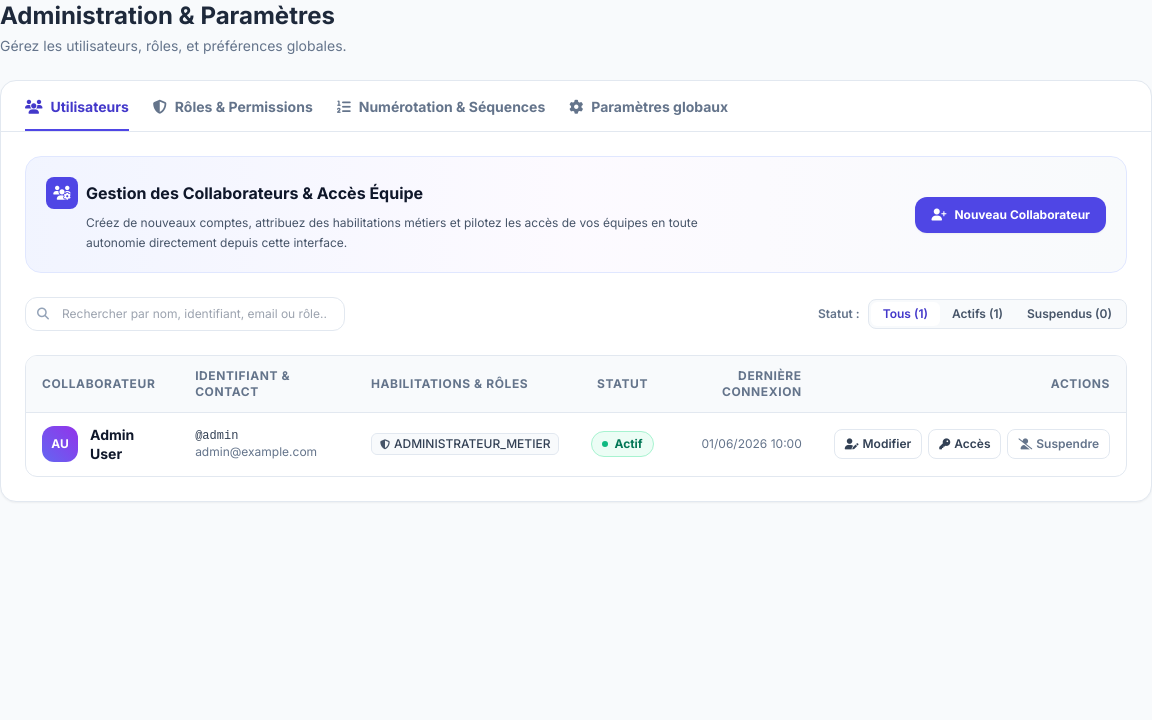
Scenario: AdminPage › permet de créer un nouveau rôle applicatif via l'API
Expected: the text "Admin User" is shown, [90,426,134,462]
Click the button "Rôles & Permissions". click: (233, 114)
box: [153,97,313,131]
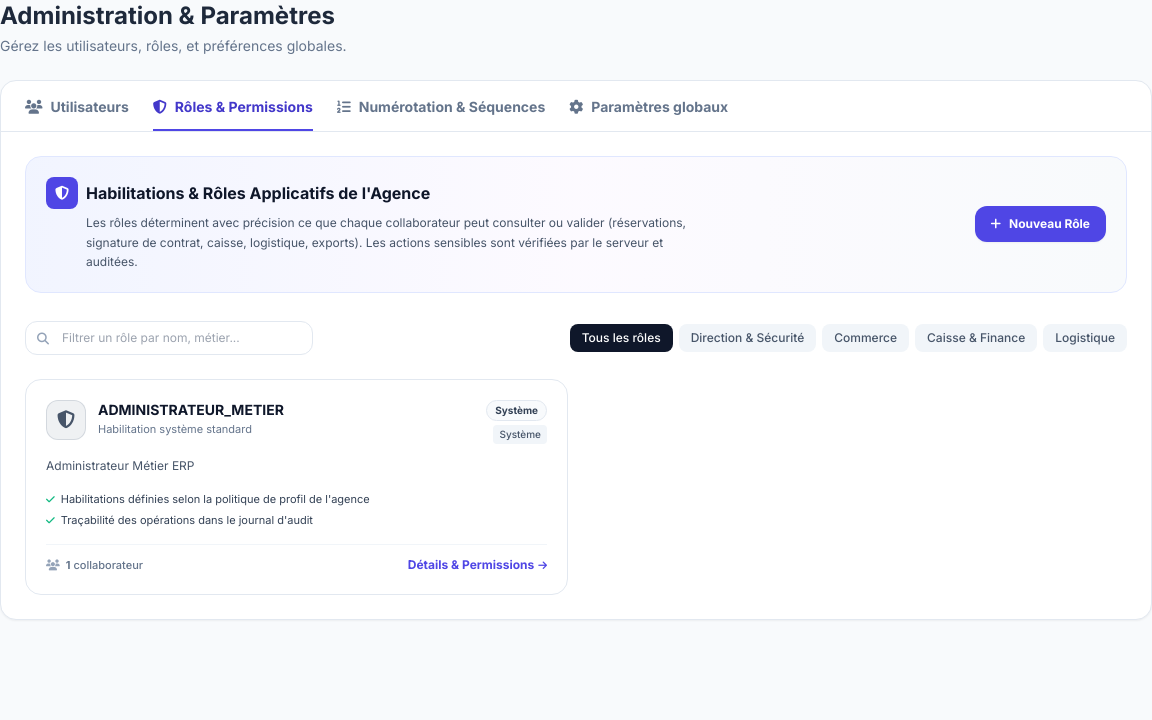
Click the button "Nouveau Rôle". click: (1040, 224)
box: [974,206,1106,242]
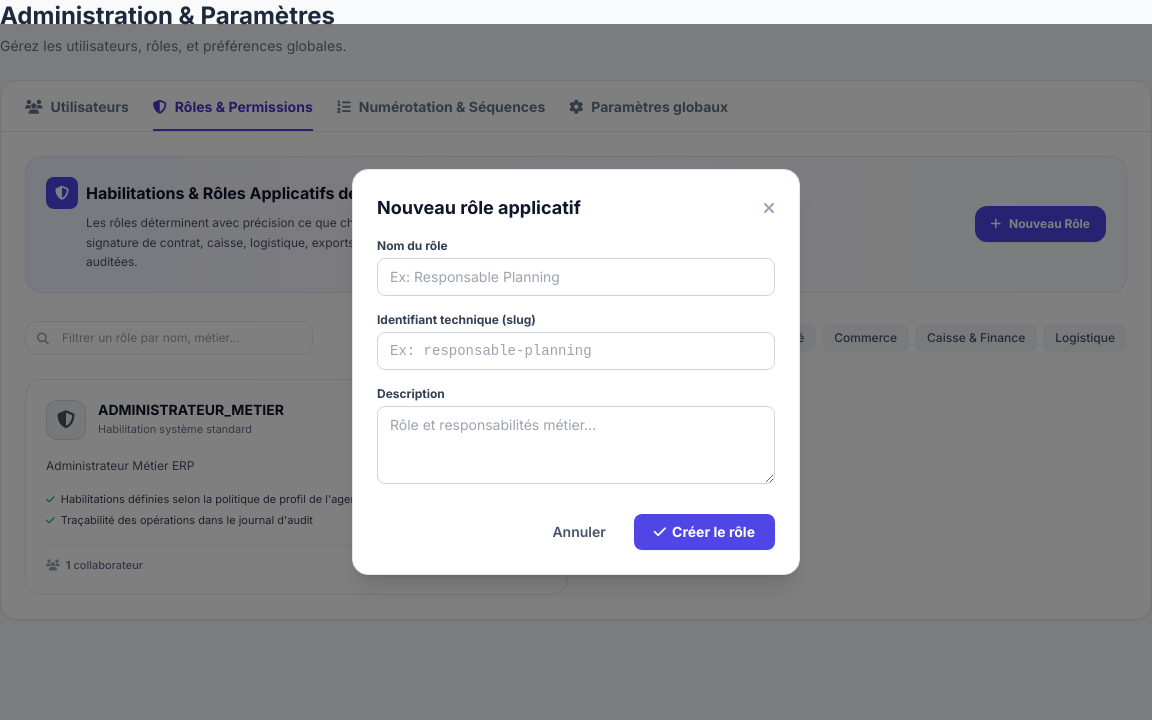
Result: the heading "Nouveau rôle applicatif" is shown at [377,194,581,222]
Type "Responsable Planning" into the field with placeholder "Ex: Responsable Planning". click: (576, 277)
box: [377,258,775,296]
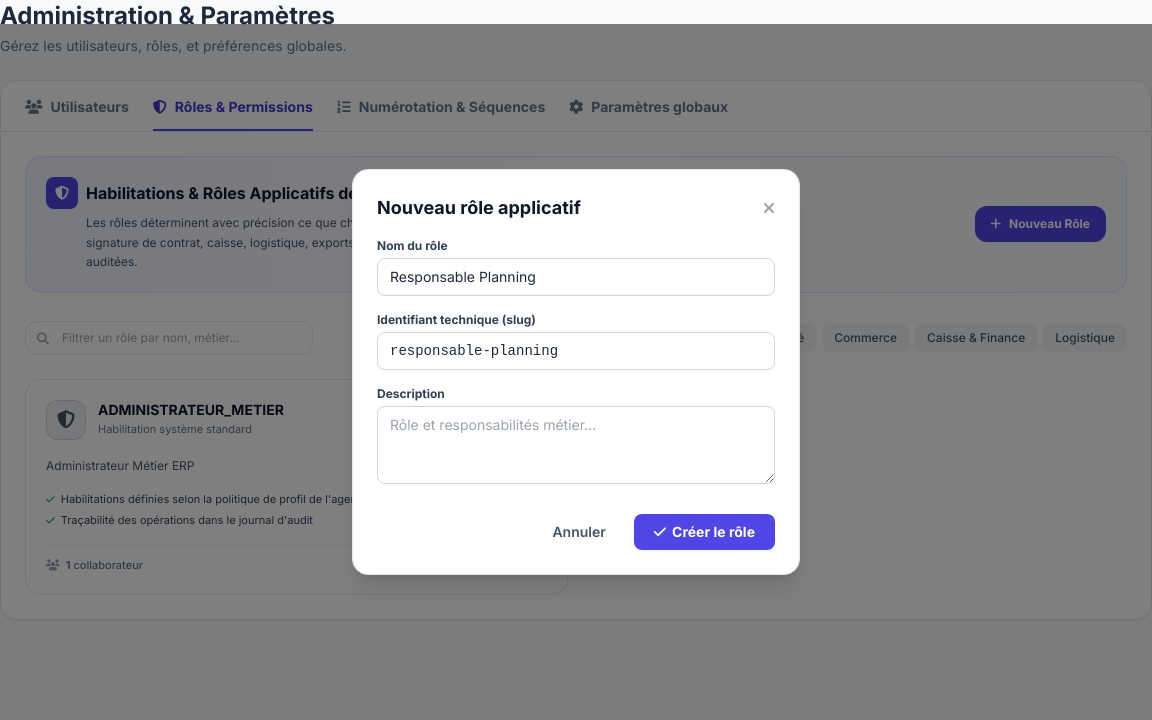
Type "Gestion des plannings" into the text box with placeholder "Rôle et responsabilités métier...". click: (576, 445)
box: [377,406,775,484]
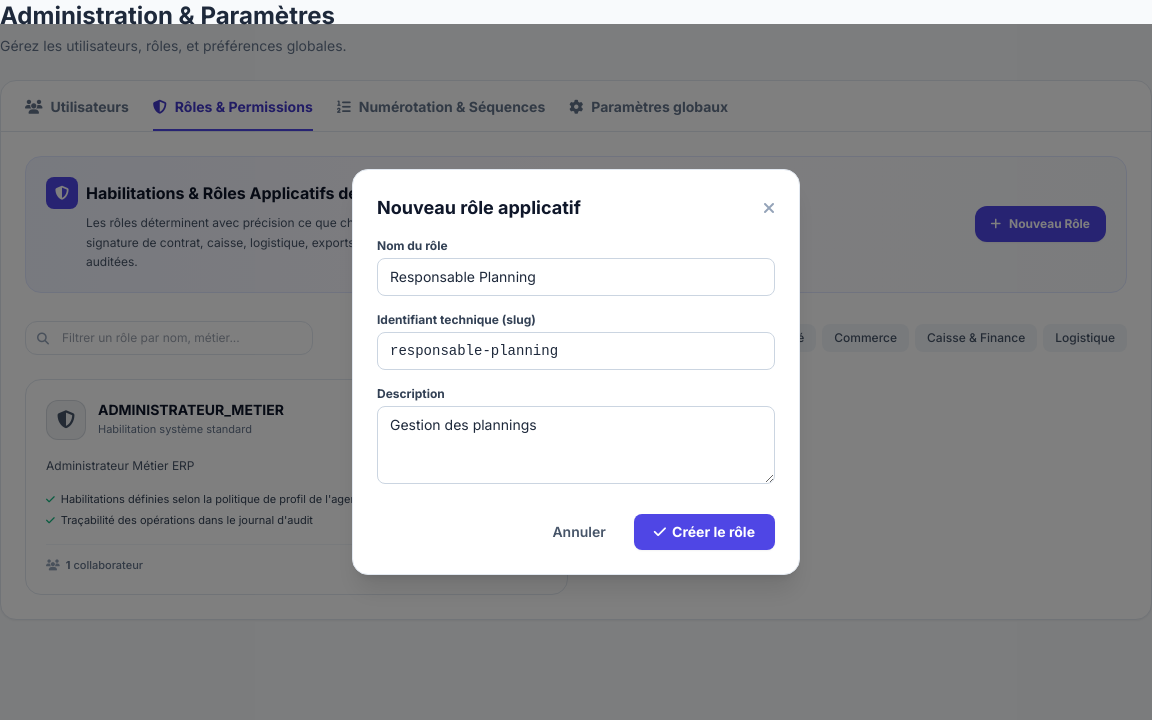
Click the button "Créer le rôle". click: (704, 532)
box: [634,514,775,550]
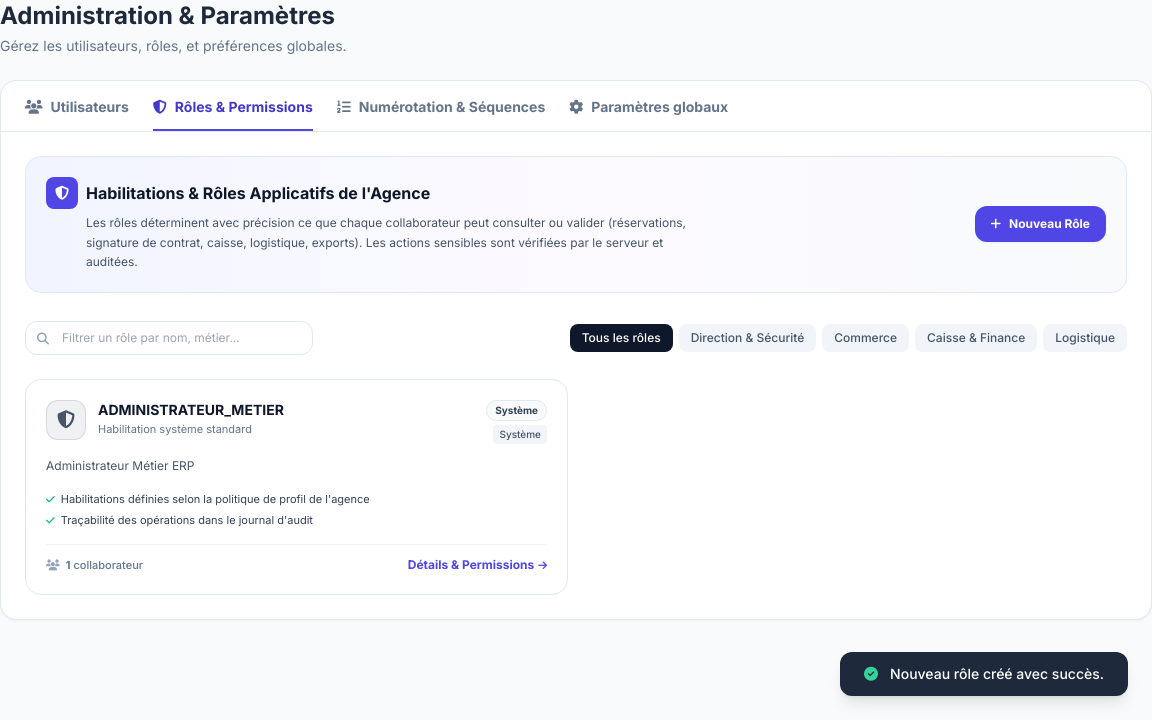
Result: the text "Nouveau rôle créé avec succès." is shown at [840,652,1128,696]
